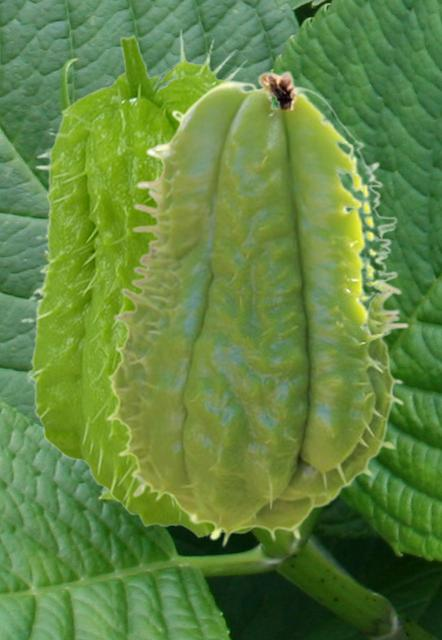sayote: (20, 28, 367, 537), (104, 69, 408, 547)
